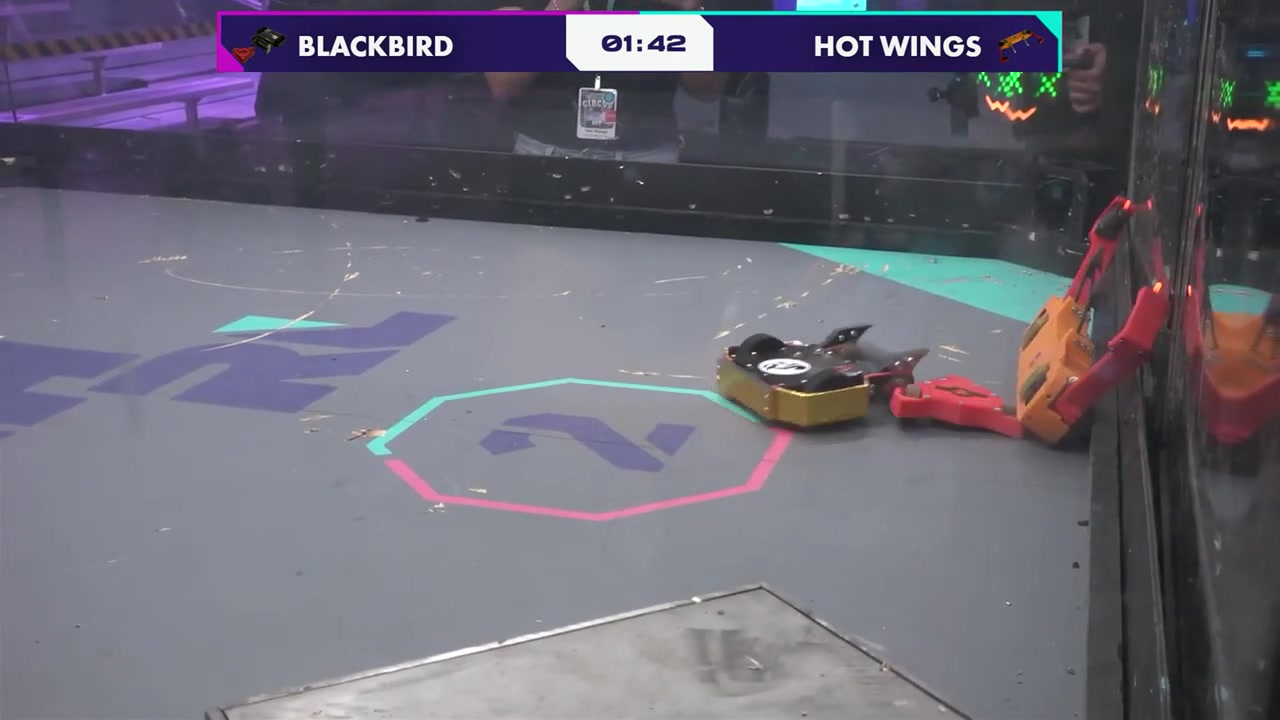combatbot: (1016, 196, 1169, 453), (716, 323, 927, 426)
minibot: (889, 373, 1023, 437)
